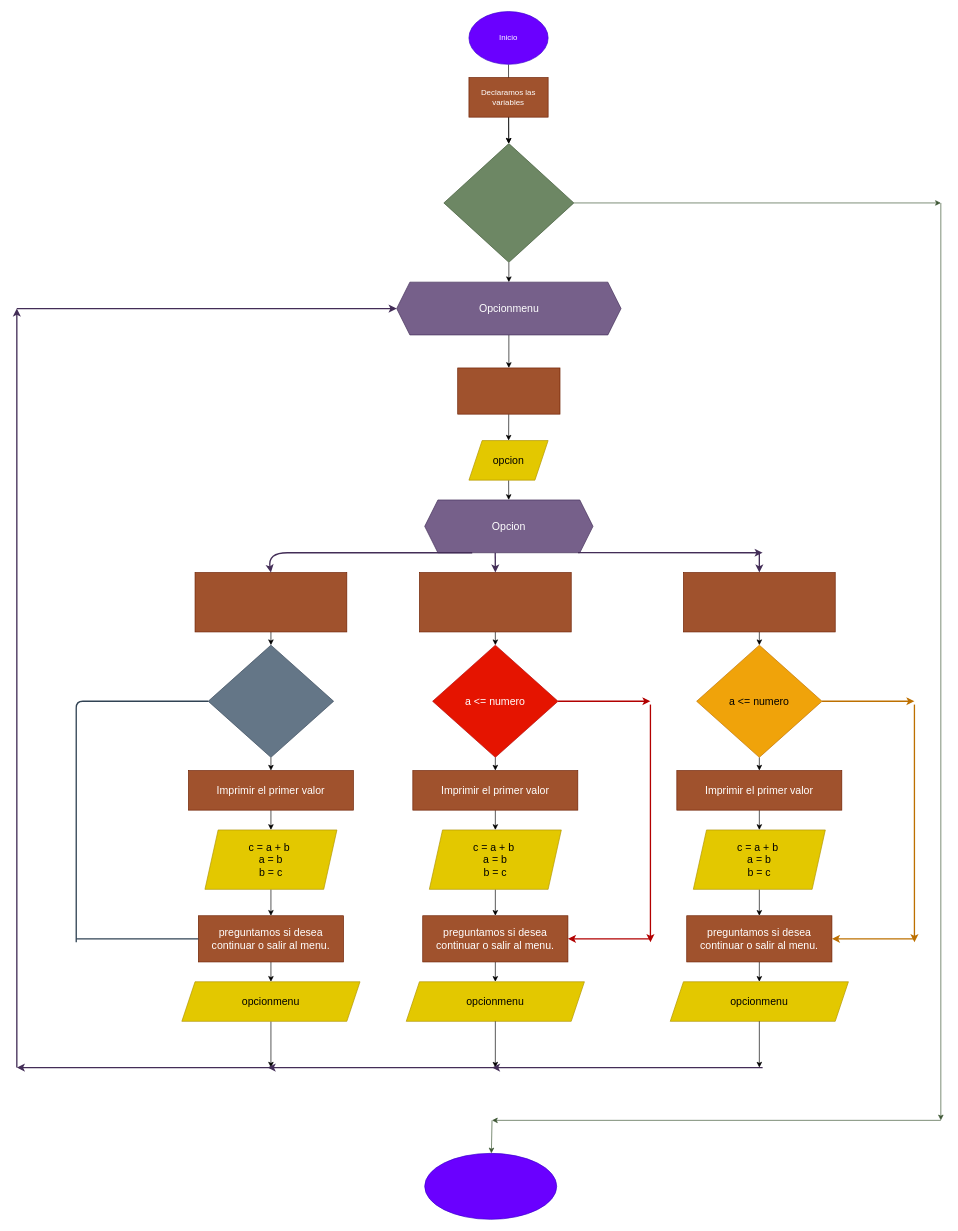
This 958x1231 diagram has some shape labels left out. Each missing label, with the centre of its shape:
Caso 0: Mostramos el menu al usuario: (508,390)
Caso 1: Mostar mensaje del submenu del ciclo For.: (270,602)
Caso 2: Mostar mensaje del submenu del ciclo While.: (495,602)
Caso 3: Mostar mensaje del submenu del ciclo Do-While.: (759,602)
Desde i = 0 Hasta a <= numero Incrementar 1: (271,700)
Fin: (490,1186)
Opcion != 4: (508,202)
